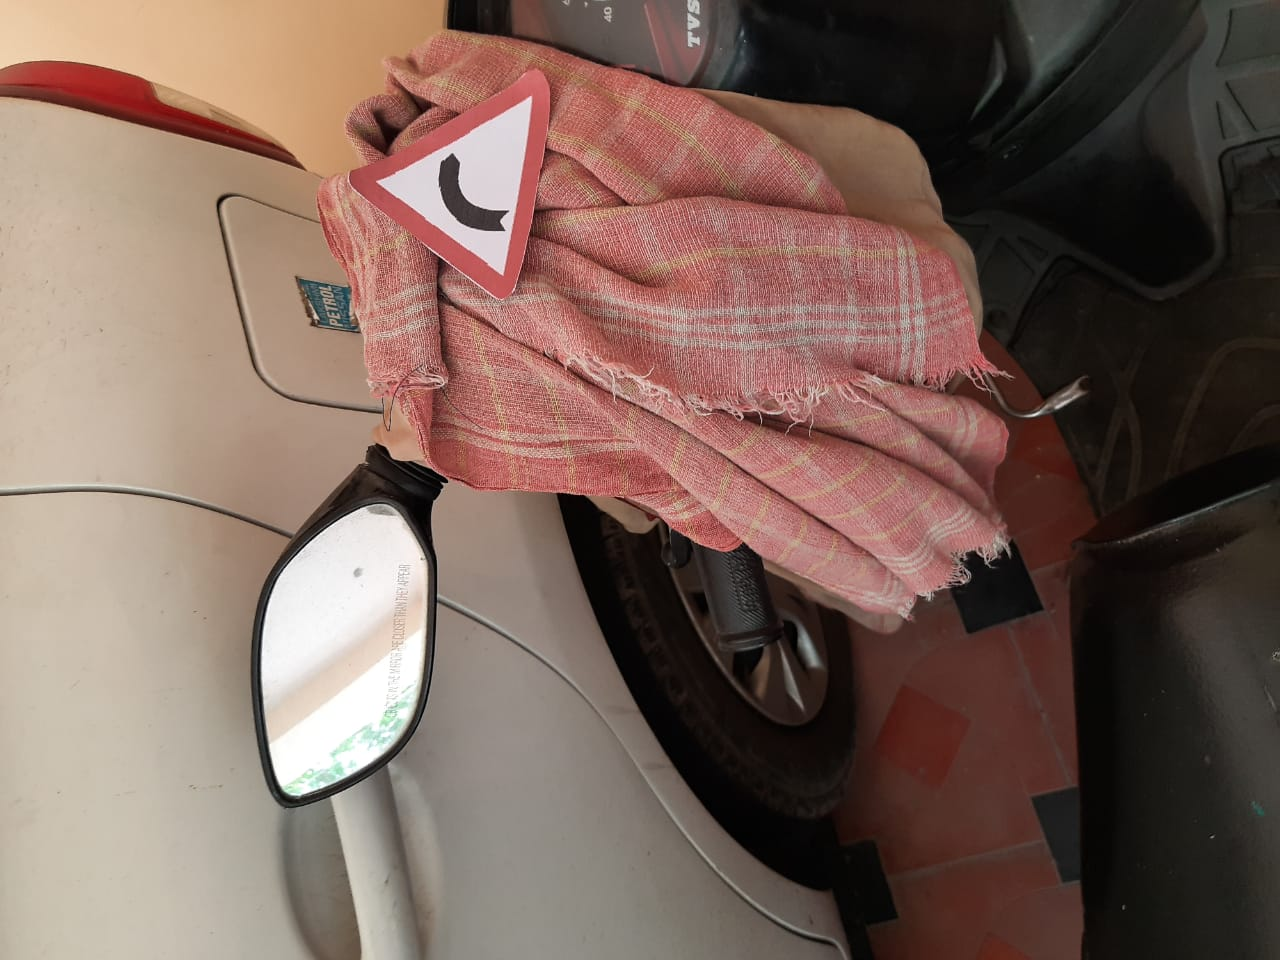RIGHT CURVE: (337, 69, 556, 295)
